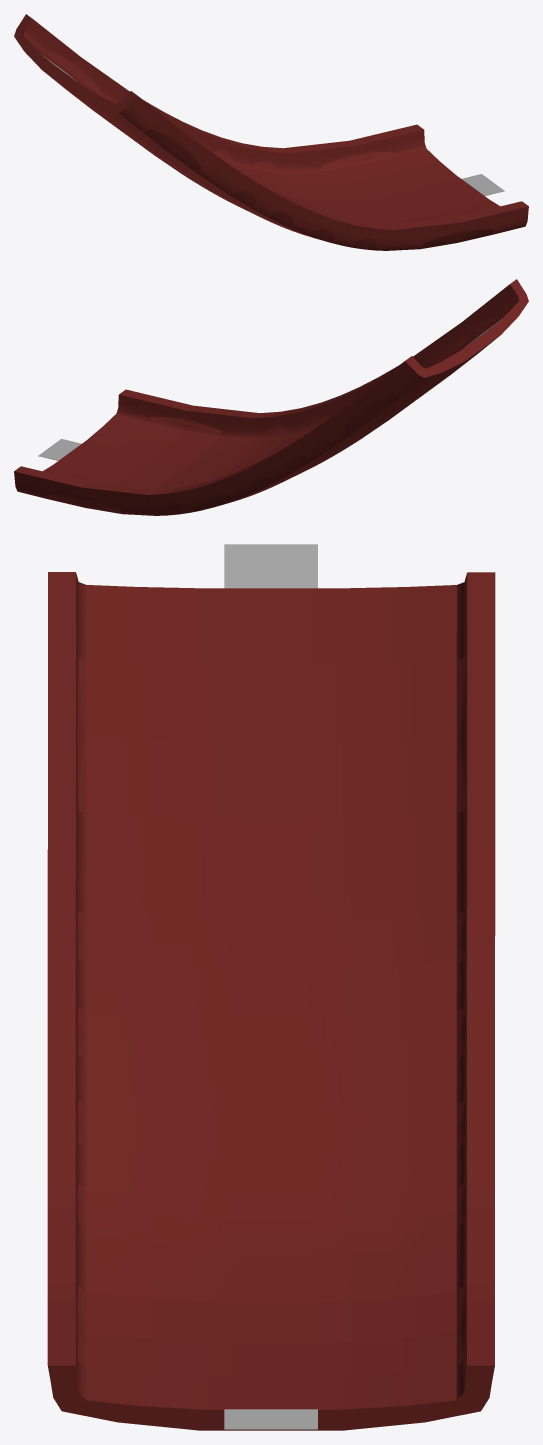
3 views of the same model, one above another, from view 1: azimuth 30°, elevation 25°; view 2: azimuth 150°, elevation 25°; view 3: azimuth 270°, elevation 25° (orthographic). The views are drawn at different scales.
Parts seen in each view (by area): view 1: pPipe3, pasted__pasted__pCube2; view 2: pPipe3, pasted__pasted__pCube2; view 3: pPipe3, pasted__pasted__pCube36, pasted__pasted__pCube2.
Boxes of the visible parts, x1,y1,x2,y2 form: pPipe3: [14, 14, 528, 250]; pasted__pasted__pCube2: [461, 174, 504, 195]; pPipe3: [14, 279, 528, 515]; pasted__pasted__pCube2: [38, 439, 81, 460]; pPipe3: [47, 572, 495, 1430]; pasted__pasted__pCube36: [224, 544, 317, 588]; pasted__pasted__pCube2: [224, 1409, 317, 1429].
Bounding box in the file's own units: 21.71 × 11.22 × 9.54.
